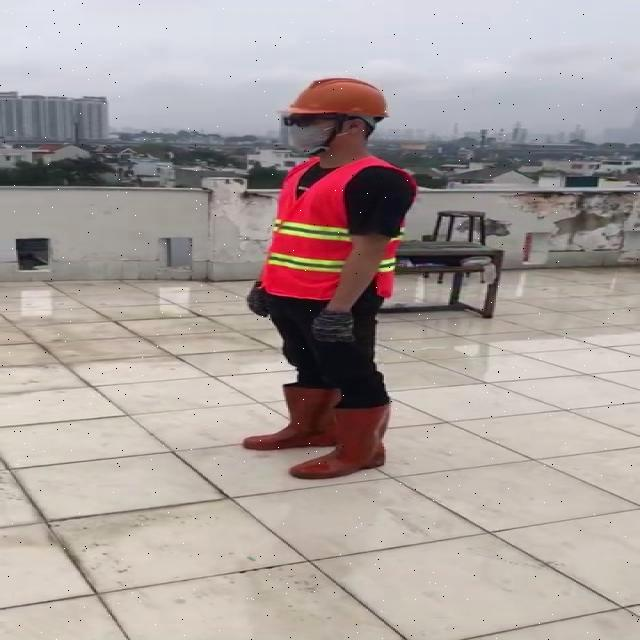Hard_hat: (277, 72, 399, 131)
Person: (235, 72, 428, 632)
Vest: (265, 155, 365, 303)
